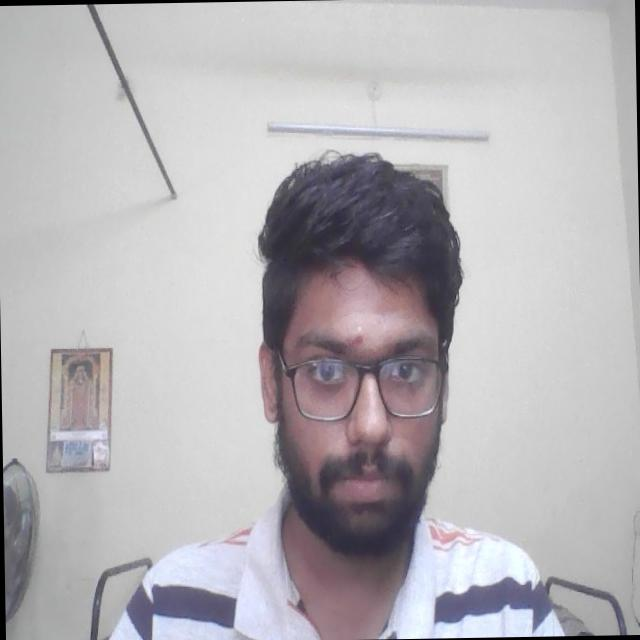Focused: (258, 274, 450, 530)
